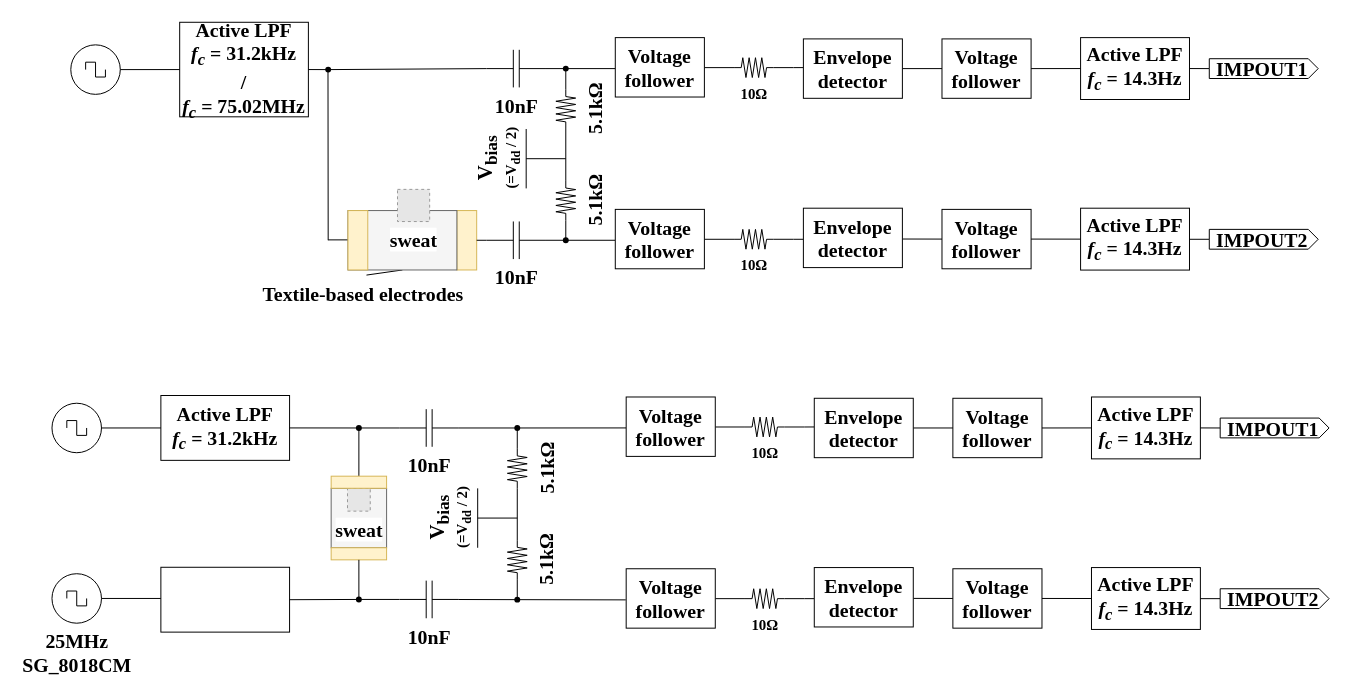
Image size: 1346x695. Some labels were removed from this diagram. Grey dashed boxes stand in for pictures. Here are the shapes that lost their labels. From the top down, the centre of each, then its label:
At [95,69]: "32.768kHz/25MHz SG_3030CM SG_8018CM".
At [76,427]: "32.768kHz SG_3030CM".
At [225,599]: "Active LPF f c = 75.02MHz".
